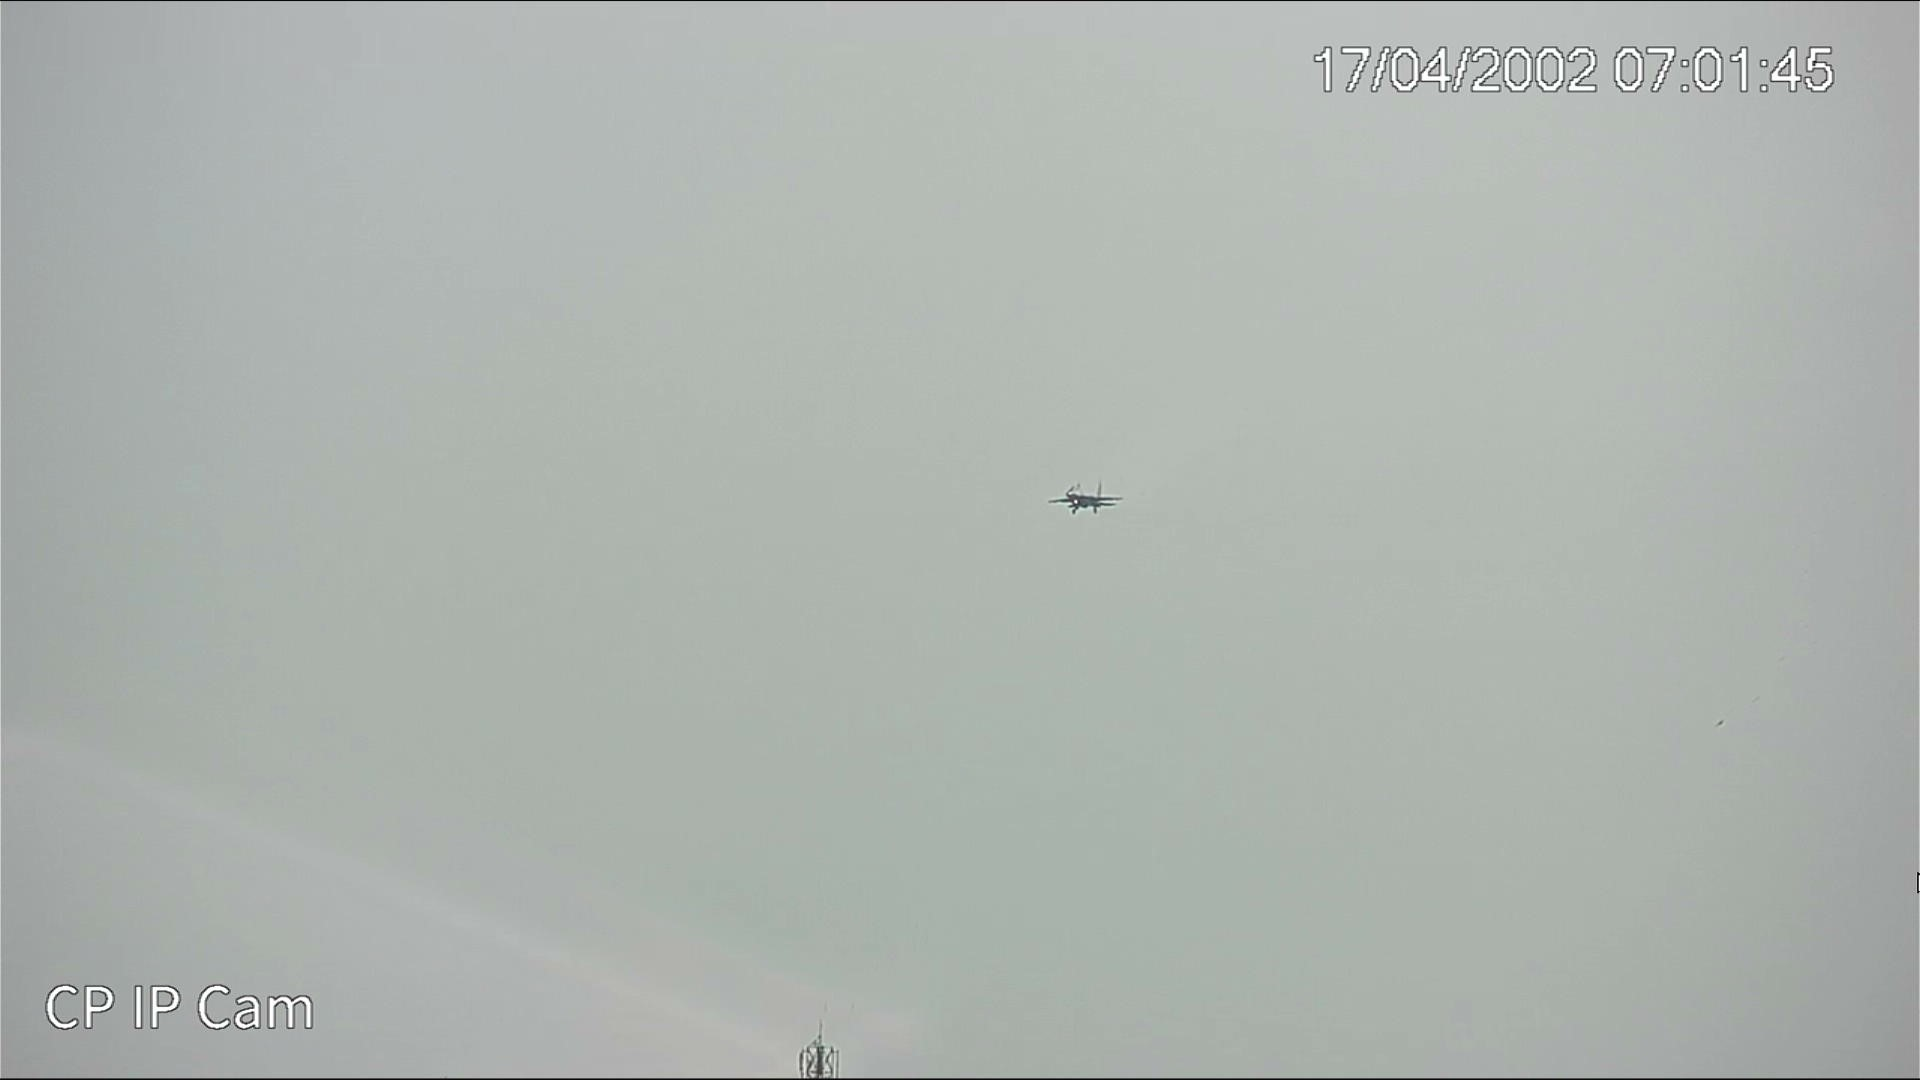SU_30: (1048, 480, 1124, 516)
